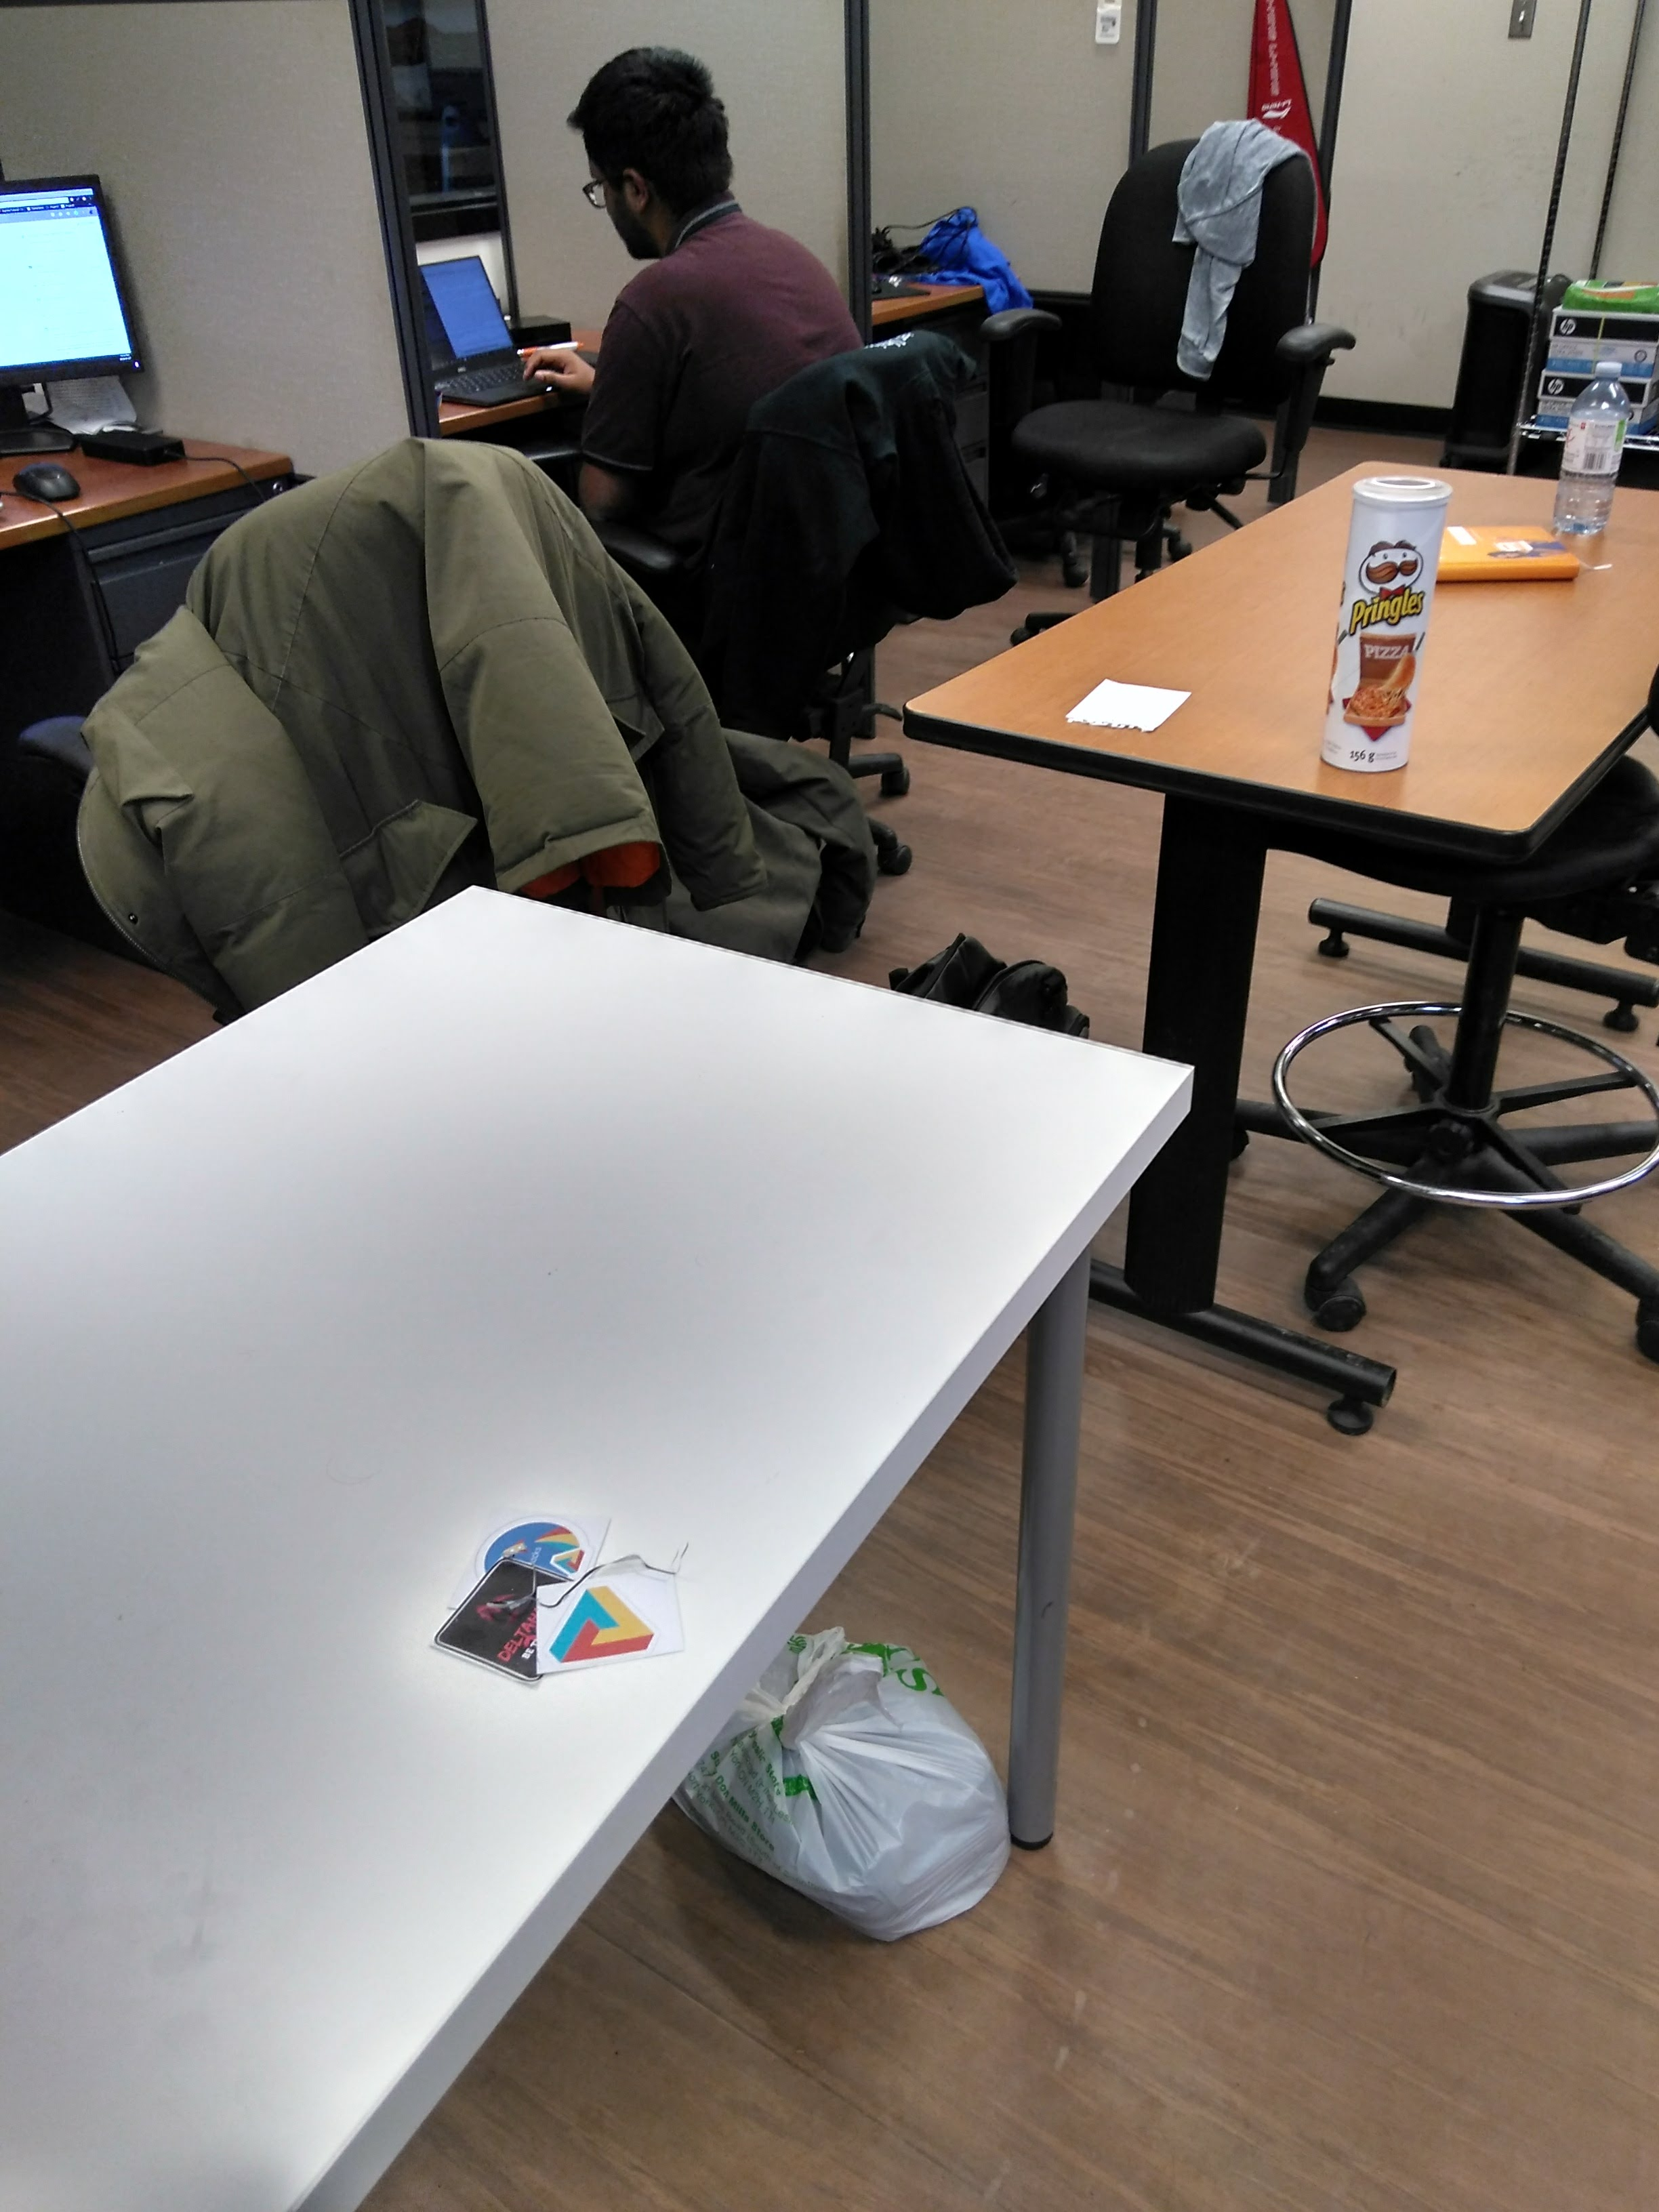pringles: (1302, 455, 1478, 805)
